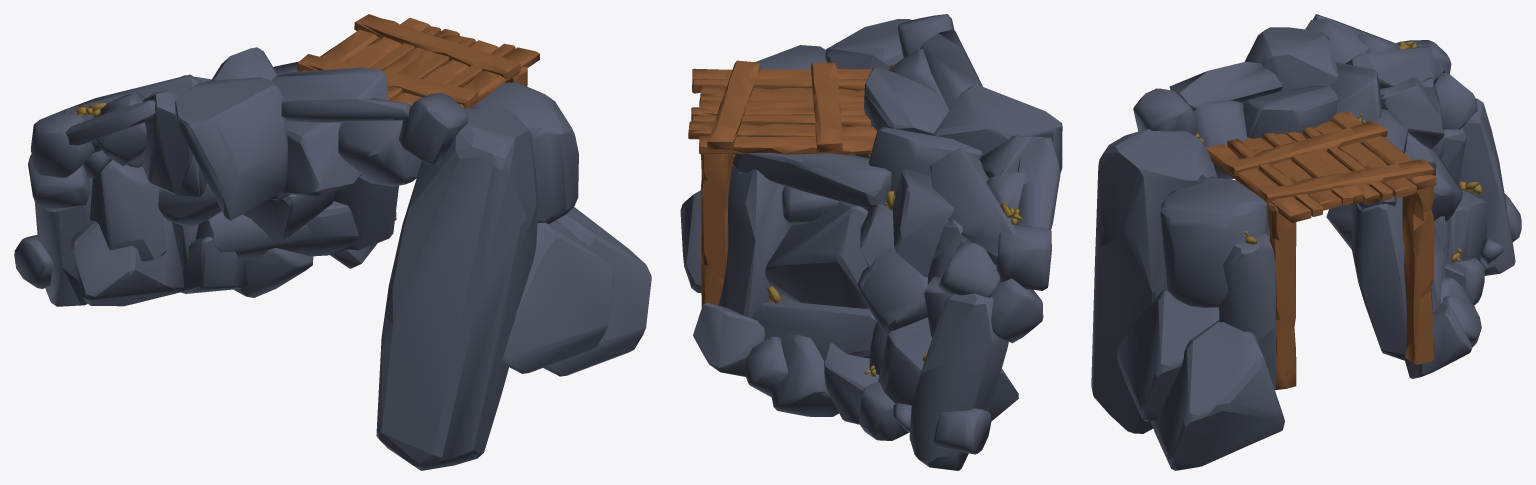
File: Mine 1.fbx
The picture shows the model from 3 angles, left to right: view 1: azimuth 30°, elevation 25°; view 2: azimuth 150°, elevation 25°; view 3: azimuth 270°, elevation 25°; orthographic projection. The views are drawn at different scales.
Visible parts, largest first — view 1: Cube.001; view 2: Cube.001; view 3: Cube.001.
Part boxes in pixels (bbox=[...]): Cube.001: bbox=[14, 14, 651, 470]; Cube.001: bbox=[680, 14, 1062, 470]; Cube.001: bbox=[1091, 14, 1521, 470].
Bounding box in the file's own units: 1148 × 801 × 934.
